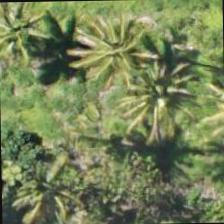Kelapa_Sawit: (72, 0, 164, 92), (99, 60, 191, 152), (1, 145, 78, 223), (0, 1, 51, 75)
